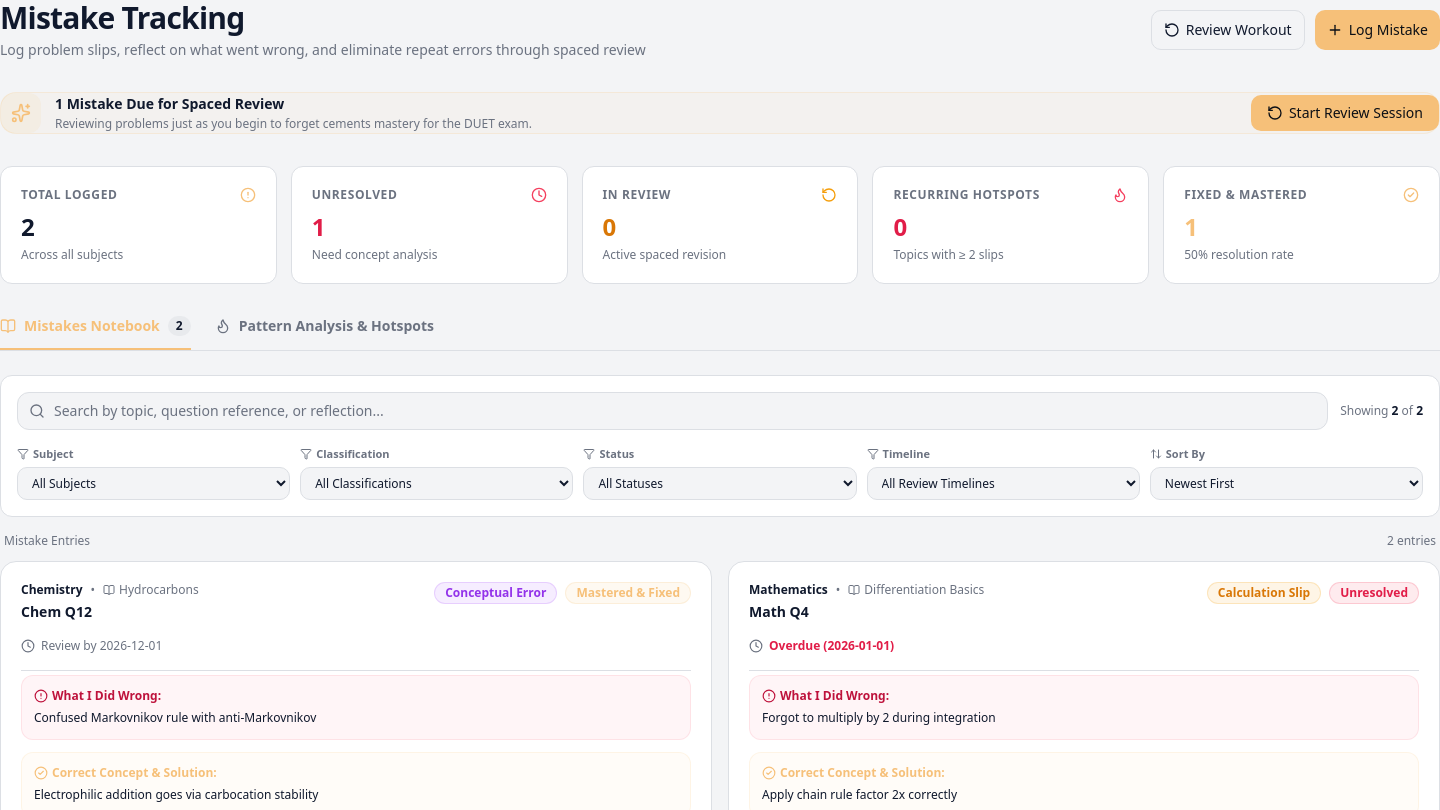
Test: MistakesPage › filters mistakes by subject dropdown
Expected: the text "Differentiation Basics" is shown, [864,582,984,598]
Select "Mathematics (গণিত)" in the dropdown showing "All Subjects": coordinates (154, 483) [17,466,290,500]
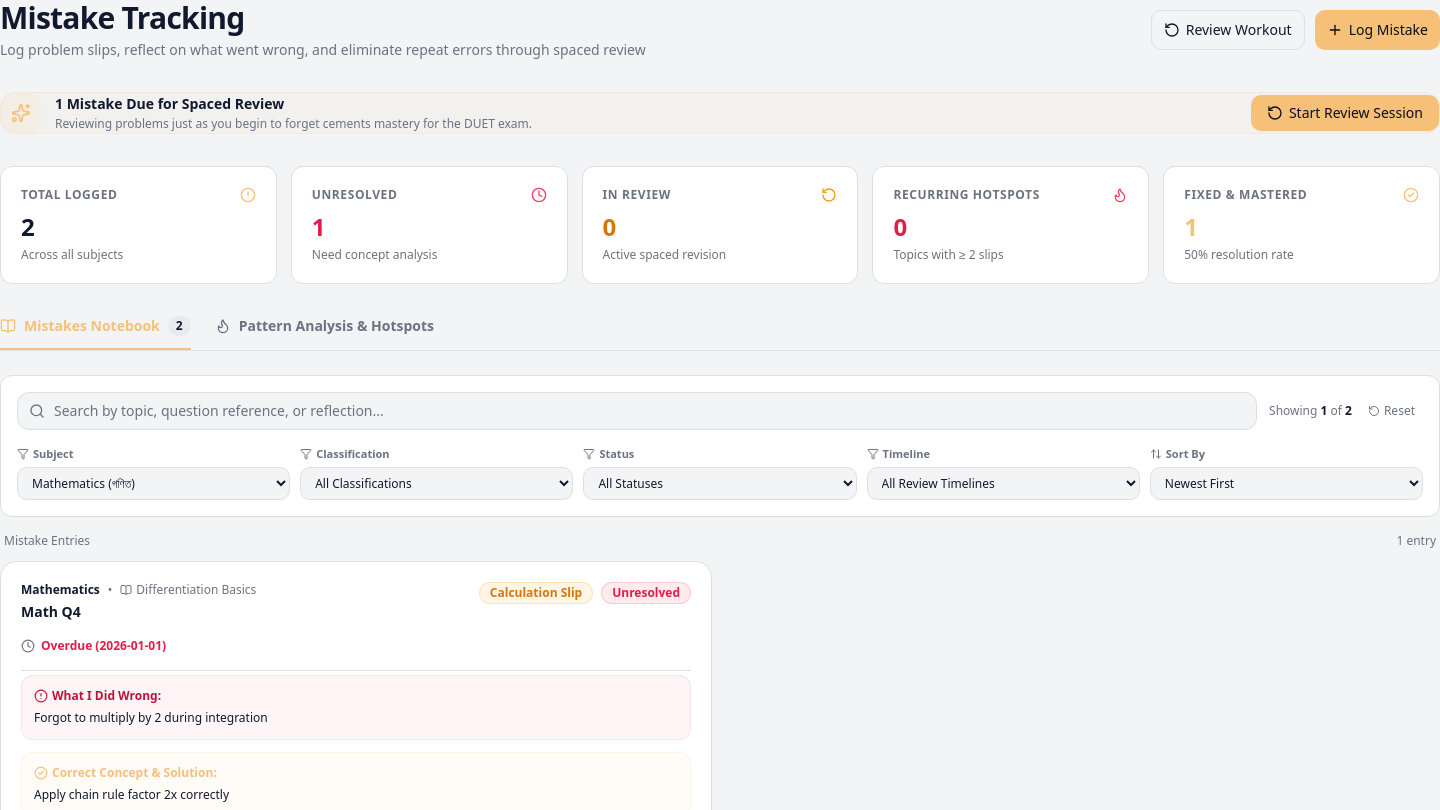
Expected: the text "Differentiation Basics" is shown, [136,582,256,598]
Expected: the text "Hydrocarbons" is gone
